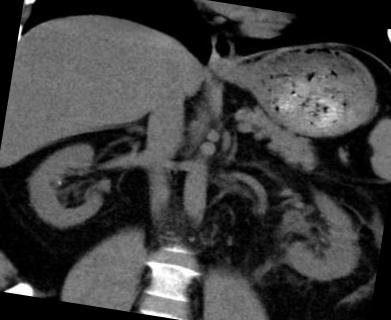Tas_Var: (54, 178, 64, 188)
